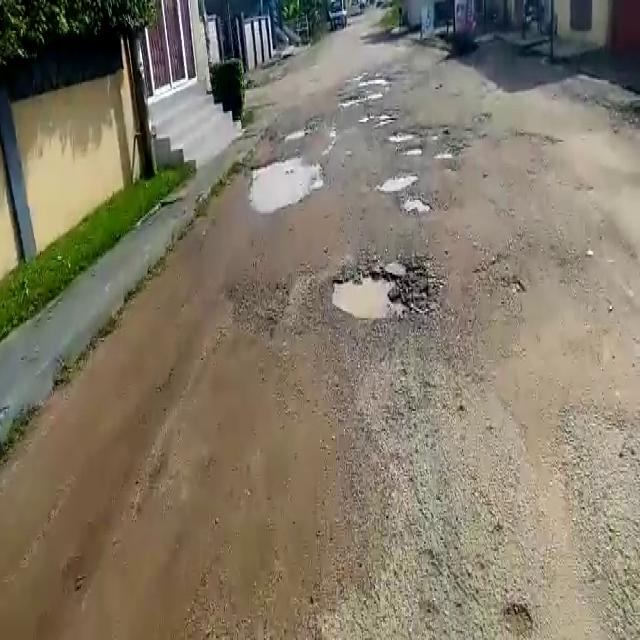Pothole: (329, 257, 439, 325), (248, 159, 327, 208), (399, 192, 441, 218), (372, 172, 418, 194), (361, 109, 400, 125), (286, 131, 306, 141)
